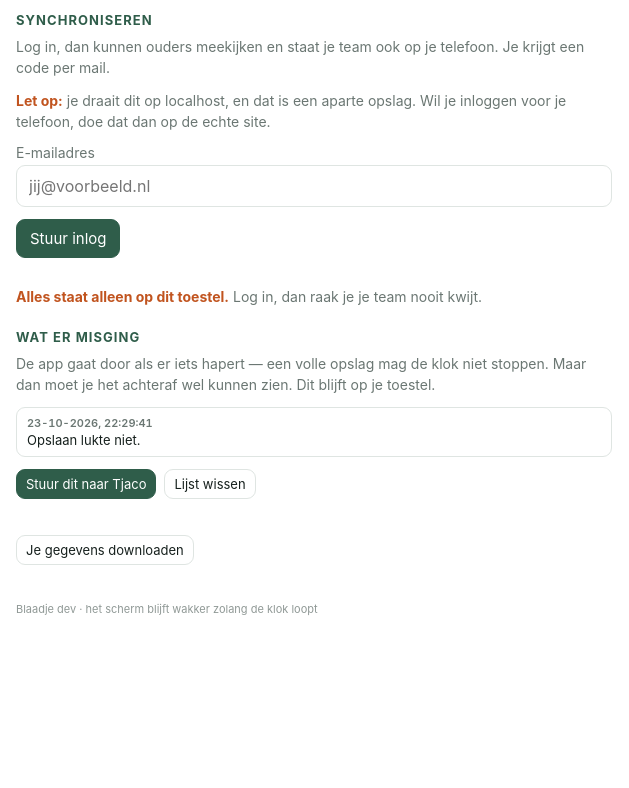
Scenario: het gegevensscherm › laat je het weer wegklappen
Click the button "Stuur dit naar Tjaco" at (86, 484), box [16,469,156,499]
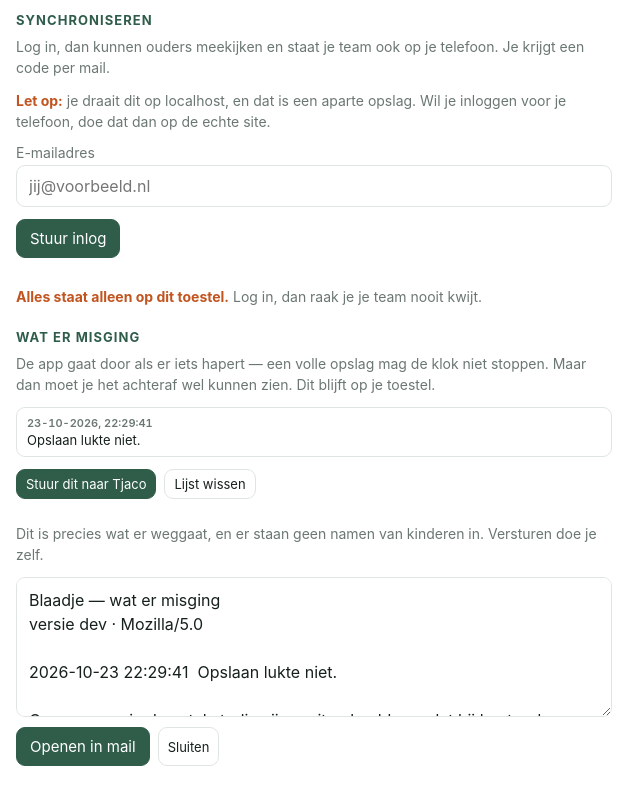
Click the button "Sluiten" at (188, 746), box [158,727,219,766]
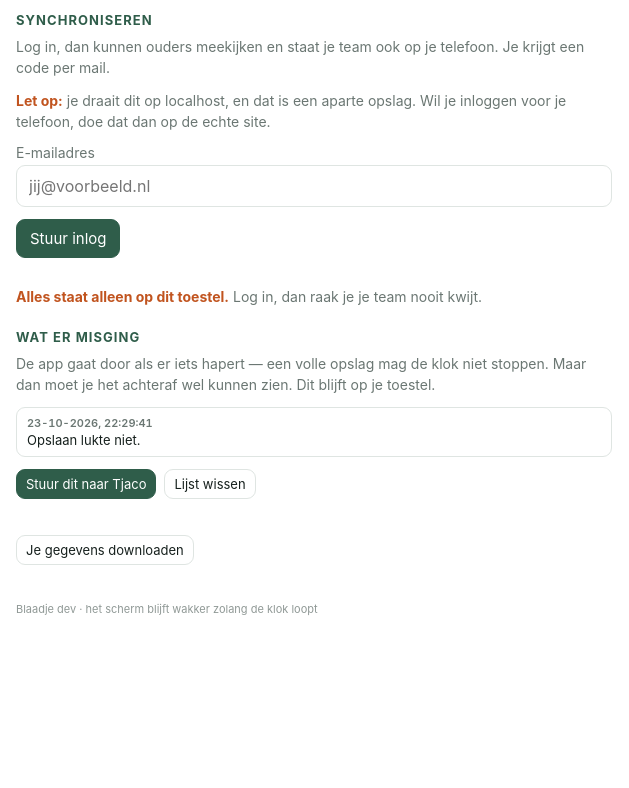
Result: no text boxes are shown
